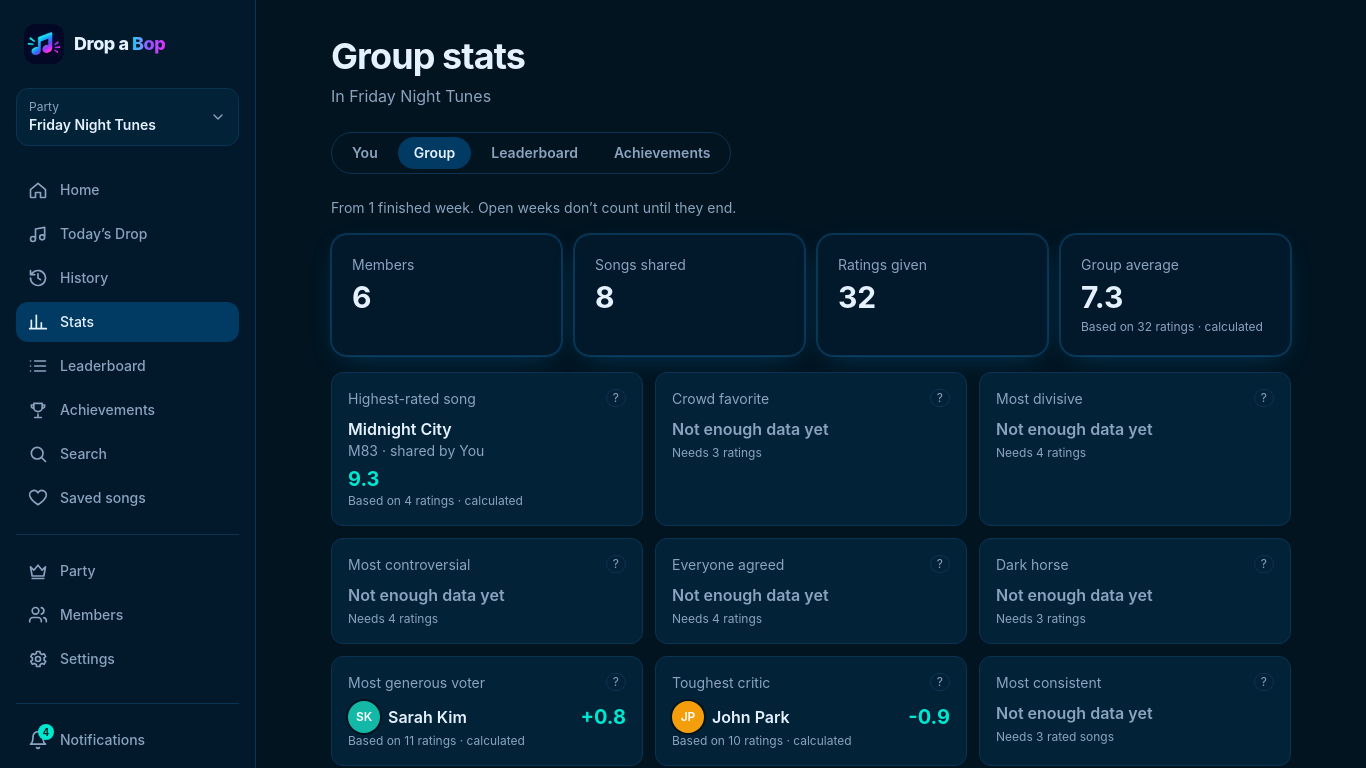
Test case: Stats and leaderboard (P8.8, P8.9) › shows group stats with definitions
Expected: the text "Highest-rated song" is shown, top-left (348, 389), bottom-right (476, 409)
Expected: the text "Most generous voter" is shown, top-left (348, 673), bottom-right (485, 693)
Note: Tap (not hover) shows the definition, so it works on phones.
Click the button named "How Most divisive is calculated" at (1264, 398), box top-left (1254, 389), bottom-right (1274, 407)
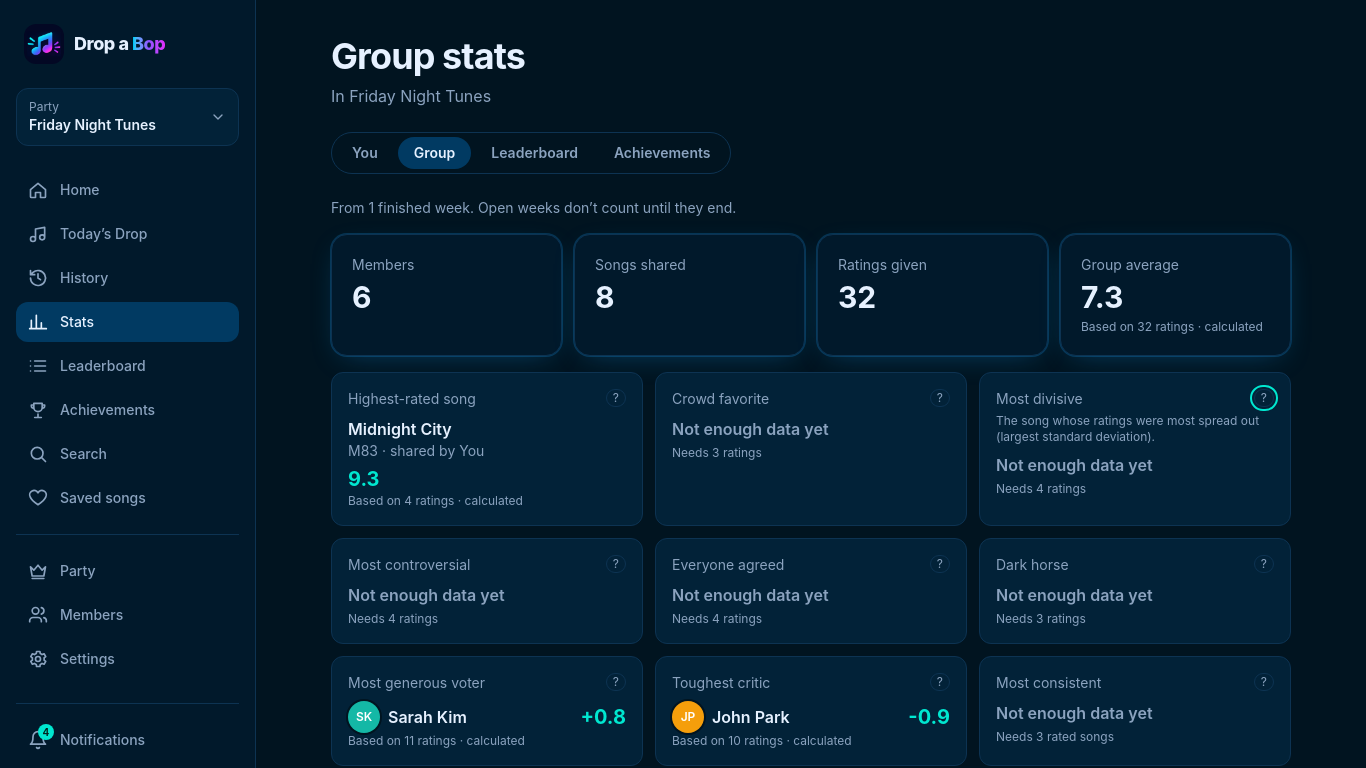
Expected: the text "ratings were most spread out" is shown, top-left (996, 413), bottom-right (1259, 444)
